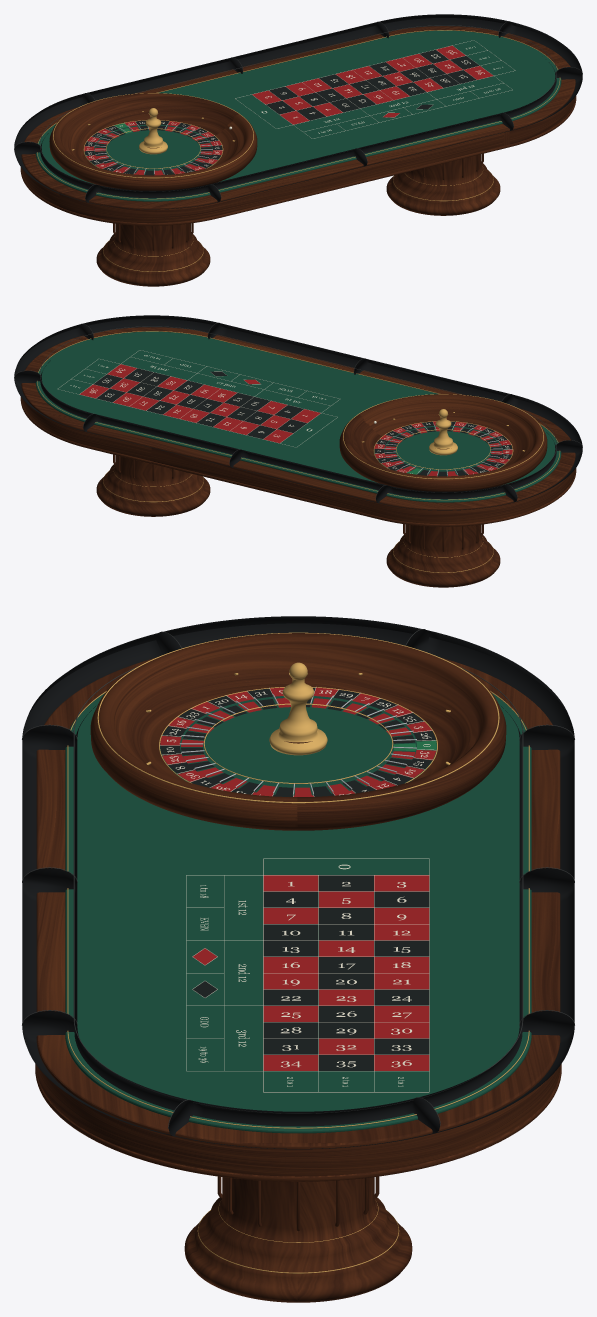
The model's file is roulette-reference-v2.glb.
3 views of the same model, one above another, from view 1: azimuth 30°, elevation 25°; view 2: azimuth 150°, elevation 25°; view 3: azimuth 270°, elevation 25° (orthographic). The views are drawn at different scales.
Parts seen in each view (by area): view 1: Noyer — veinage et vernis satiné, Drap vert bouteille — fibres, Cuir noir — grain fin, Encre noire, Encre rouge rubis, Laiton poli, Encre ivoire, Fil et passepoil anthracite, Séparateurs nickel; view 2: Noyer — veinage et vernis satiné, Drap vert bouteille — fibres, Cuir noir — grain fin, Encre noire, Encre rouge rubis, Laiton poli, Encre ivoire, Fil et passepoil anthracite, Séparateurs nickel; view 3: Drap vert bouteille — fibres, Noyer — veinage et vernis satiné, Cuir noir — grain fin, Encre rouge rubis, Encre noire, Encre ivoire, Laiton poli, Fil et passepoil anthracite, Séparateurs nickel.
Boxes of the visible parts, x1,y1,x2,y2 form: Noyer — veinage et vernis satiné: (20,26,576,286); Drap vert bouteille — fibres: (35,30,561,201); Cuir noir — grain fin: (14,14,582,209); Encre noire: (84,50,479,175); Encre rouge rubis: (84,45,493,175); Laiton poli: (37,30,560,271); Encre ivoire: (85,40,515,174); Fil et passepoil anthracite: (14,21,582,198); Séparateurs nickel: (94,124,212,173); Noyer — veinage et vernis satiné: (20,327,576,587); Drap vert bouteille — fibres: (35,331,561,502); Cuir noir — grain fin: (14,315,582,510); Encre noire: (93,368,512,476); Encre rouge rubis: (79,364,512,476); Laiton poli: (37,331,560,572); Encre ivoire: (58,350,512,475); Fil et passepoil anthracite: (14,322,582,498); Séparateurs nickel: (384,424,502,474); Drap vert bouteille — fibres: (65,690,531,1133); Noyer — veinage et vernis satiné: (35,633,561,1302); Cuir noir — grain fin: (22,616,574,1149); Encre rouge rubis: (160,687,435,1070); Encre noire: (160,687,435,1070); Encre ivoire: (160,687,436,1092); Laiton poli: (67,632,529,1273); Fil et passepoil anthracite: (22,629,574,1128); Séparateurs nickel: (179,694,416,794).
Size of the model in its own units: 4.55 by 1.28 by 2.05.
10 materials, 1 textured.
